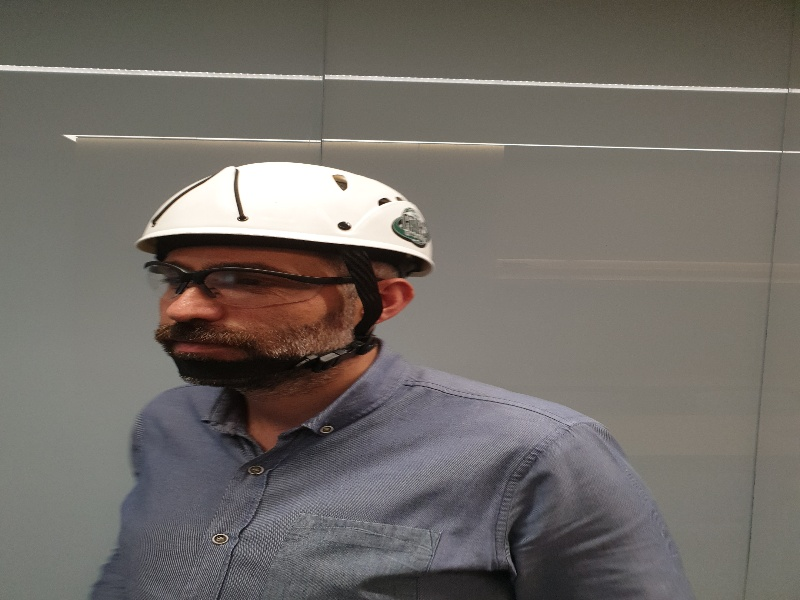Baret: (139, 159, 432, 269)
Gozluk: (144, 260, 374, 305)
